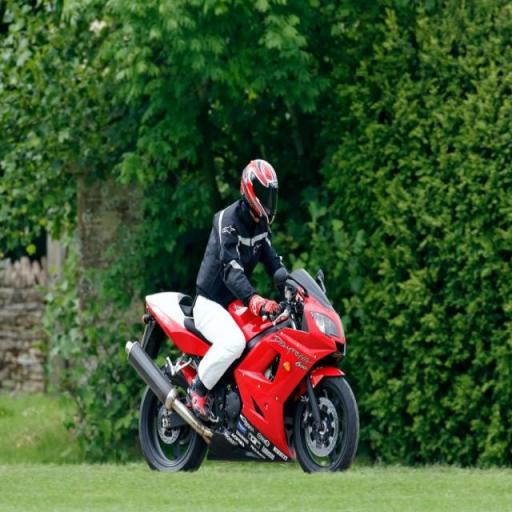Helmet: (232, 145, 288, 231)
Motor: (116, 284, 386, 480)
